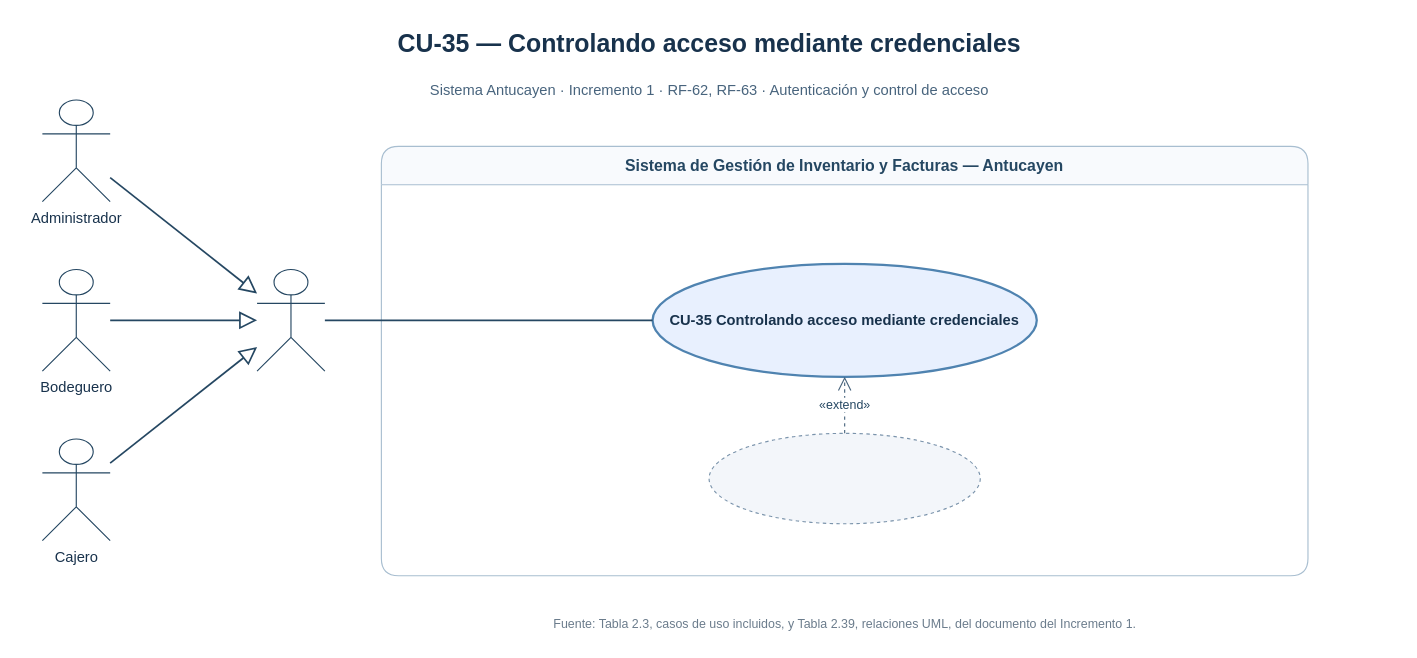
This 1417x658 diagram has some shape labels left out. The shapes that lost their labels are listed below. From the top down, each one's box as (x1, y1, x2, y2) in pixels, then its label:
(256, 268, 325, 371): Usuario del sistema
(708, 432, 980, 524): CU-04 Restringiendo modificación de productos
